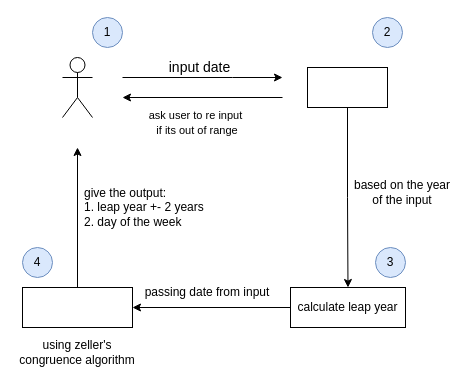
The diagram is 474 pixels wide and 385 high, and some of its shapes have lost their labels. Here are the shapes that lost their labels. From the top down, the centre of each, then its label:
the point at 77,87: User
the point at 347,87: validate
the point at 77,307: calculate day of the week
